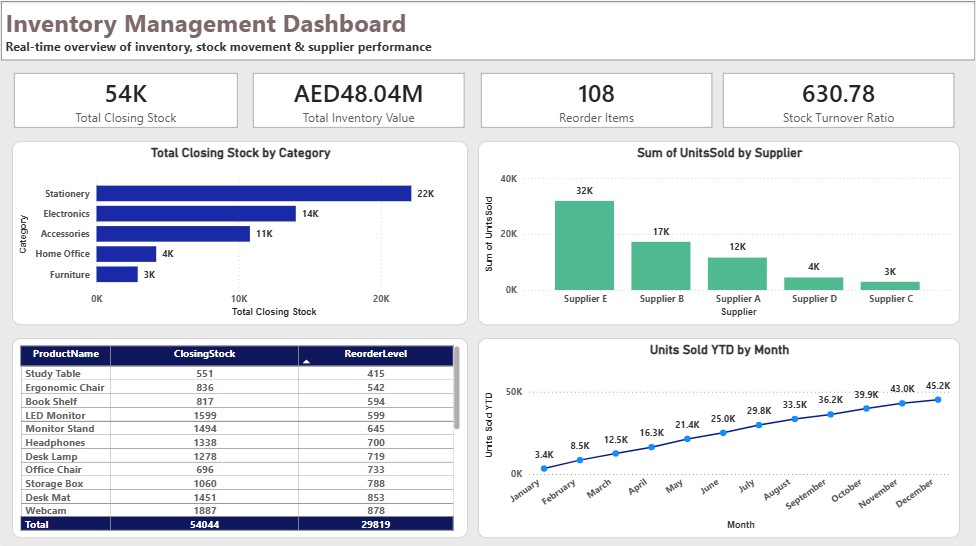

What the dashboard file says about the page in this screenshot:
{"tool":"powerbi","page":{"name":"Page 1","canvas":[1280,720],"ordinal":0},"visuals":[{"type":"cardVisual","fields":{"Data":["Inventory.Total Closing Stock"]},"box":[0,77.5,328.5,106.4],"z":0},{"type":"cardVisual","fields":{"Data":["Inventory.Total Inventory Value"]},"box":[314,77.5,312.7,106.4],"z":1000},{"type":"cardVisual","fields":{"Data":["Inventory.Reorder Items"]},"box":[613.6,77.5,339,106.4],"z":2000},{"type":"cardVisual","fields":{"Data":["Inventory.Stock Turnover Ratio"]},"box":[931.5,77.5,328.5,106.4],"z":3000},{"type":"clusteredBarChart","fields":{"Category":["Inventory.Category"],"Y":["Inventory.Total Closing Stock"]},"box":[14.5,183.9,599.1,241.8],"z":4000},{"type":"clusteredColumnChart","fields":{"Category":["Inventory.Supplier"],"Y":["Sum(Inventory.UnitsSold)"]},"box":[626.7,183.9,633.3,241.8],"z":5000},{"type":"tableEx","fields":{"Values":["Inventory.ProductName","Sum(Inventory.ClosingStock)","Sum(Inventory.ReorderLevel)"]},"box":[14.5,442.8,599.1,262.8],"z":6000},{"type":"lineChart","fields":{"Category":["Date.Date.Variation.Date Hierarchy.Month"],"Y":["Inventory.Units Sold YTD"]},"box":[626.7,442.8,633.3,262.8],"z":7000},{"type":"textbox","box":[0,0,1279.7,77.5],"z":8000}]}

Visuals, with their boxes in screenshot pixels (x1, y1, x2, y2), scaled from the page's 1280x720 canvas onto the 976x546 screenshot:
cardVisual - Inventory.Total Closing Stock: (left=0, top=59, right=250, bottom=139)
cardVisual - Inventory.Total Inventory Value: (left=239, top=59, right=478, bottom=139)
cardVisual - Inventory.Reorder Items: (left=468, top=59, right=726, bottom=139)
cardVisual - Inventory.Stock Turnover Ratio: (left=710, top=59, right=961, bottom=139)
clusteredBarChart - Inventory.Category x Inventory.Total Closing Stock: (left=11, top=139, right=468, bottom=323)
clusteredColumnChart - Inventory.Supplier x Sum(Inventory.UnitsSold): (left=478, top=139, right=961, bottom=323)
tableEx - Inventory.ProductName x Sum(Inventory.ClosingStock): (left=11, top=336, right=468, bottom=535)
lineChart - Date.Date.Variation.Date Hierarchy.Month x Inventory.Units Sold YTD: (left=478, top=336, right=961, bottom=535)
textbox: (left=0, top=0, right=975, bottom=59)
